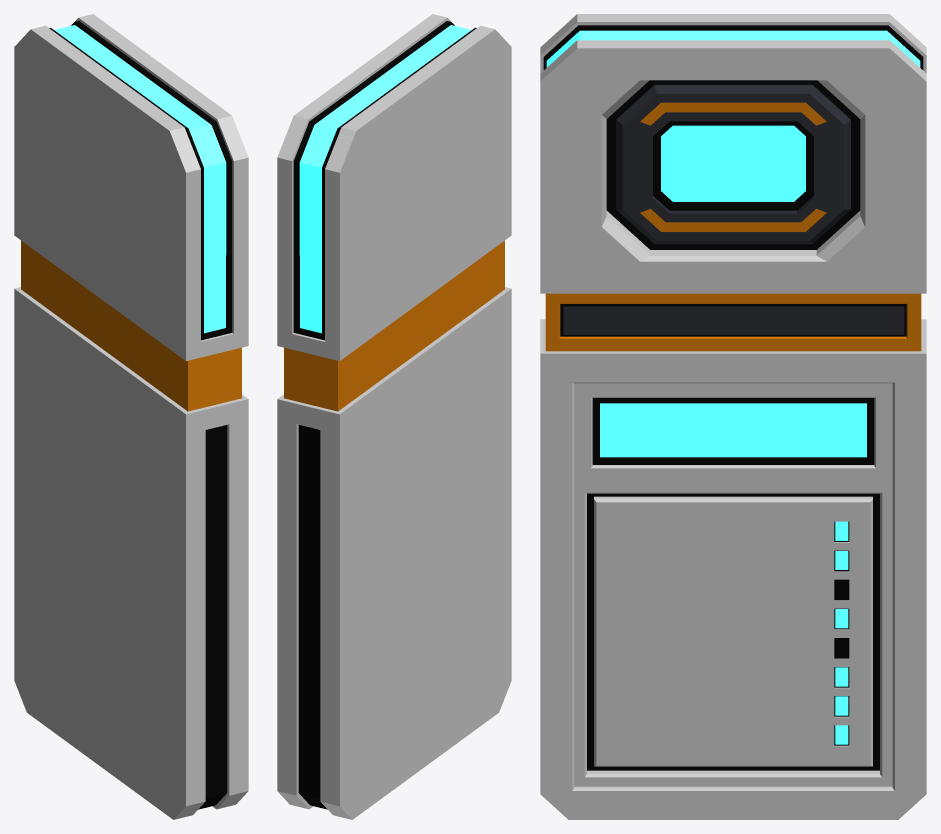
The model's file is SM_WallDecor_Utility_Tall.glb.
The picture shows the model from 3 angles, left to right: view 1: azimuth 30°, elevation 25°; view 2: azimuth 150°, elevation 25°; view 3: azimuth 270°, elevation 25°; orthographic projection. The views are drawn at different scales.
Visible parts, largest first — view 1: SM_WallDecor_Utility_Tall.001; view 2: SM_WallDecor_Utility_Tall.001; view 3: SM_WallDecor_Utility_Tall.001.
Part boxes in pixels (x1=…): SM_WallDecor_Utility_Tall.001: x1=14, y1=14, x2=248, y2=819; SM_WallDecor_Utility_Tall.001: x1=277, y1=14, x2=511, y2=819; SM_WallDecor_Utility_Tall.001: x1=540, y1=14, x2=926, y2=819.
Bounding box in the file's own units: 0.8412 × 8.81 × 4.
